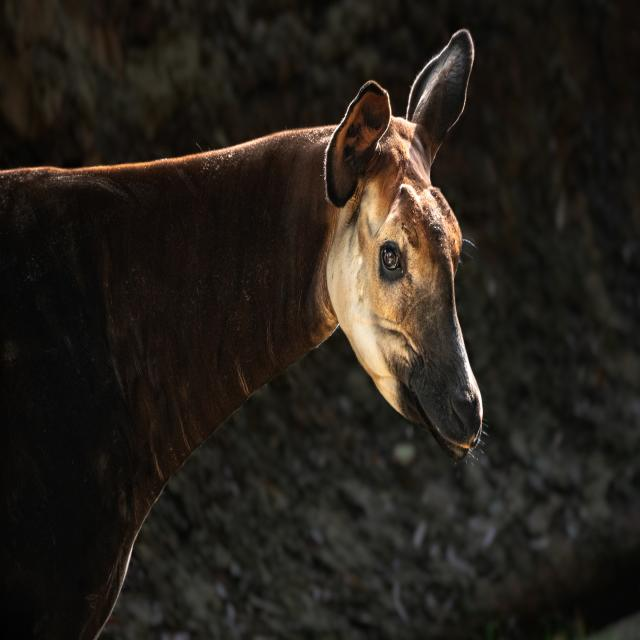Okapi: (0, 25, 484, 640)
